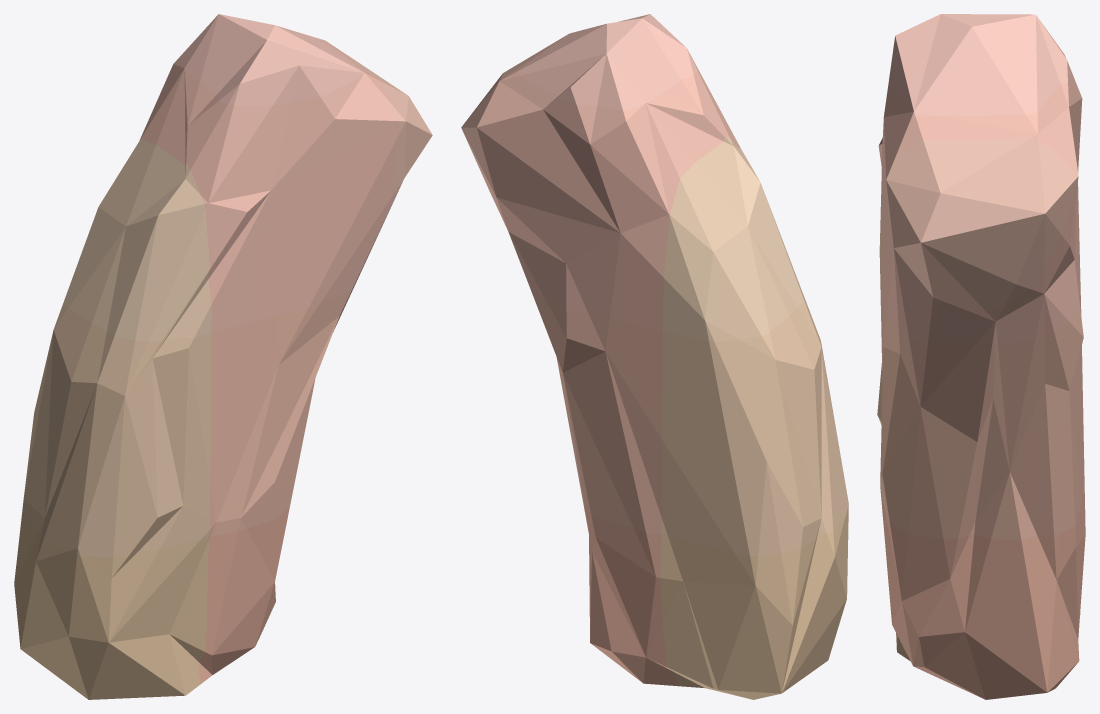
Rendered from DC_PortalRock1.fbx.
The picture shows the model from 3 angles, left to right: view 1: azimuth 30°, elevation 25°; view 2: azimuth 150°, elevation 25°; view 3: azimuth 270°, elevation 25°; orthographic projection. The views are drawn at different scales.
Visible parts, largest first — view 1: PortalRock1; view 2: PortalRock1; view 3: PortalRock1.
Part boxes in pixels (left/top/right/bottom): PortalRock1: left=14, top=14, right=432, bottom=699; PortalRock1: left=461, top=14, right=848, bottom=699; PortalRock1: left=877, top=14, right=1085, bottom=699.
Size of the model in its own units: 1.27 by 2.06 by 0.552.
1 material, 1 textured.
